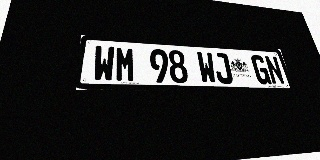8: (168, 50, 189, 83)
9: (149, 49, 170, 83)
G: (250, 55, 272, 84)
J: (212, 52, 234, 84)
M: (115, 46, 136, 82)
N: (264, 55, 286, 85)
W: (92, 45, 115, 82), (196, 51, 217, 83)
